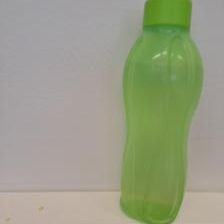bottle: (112, 1, 207, 221)
